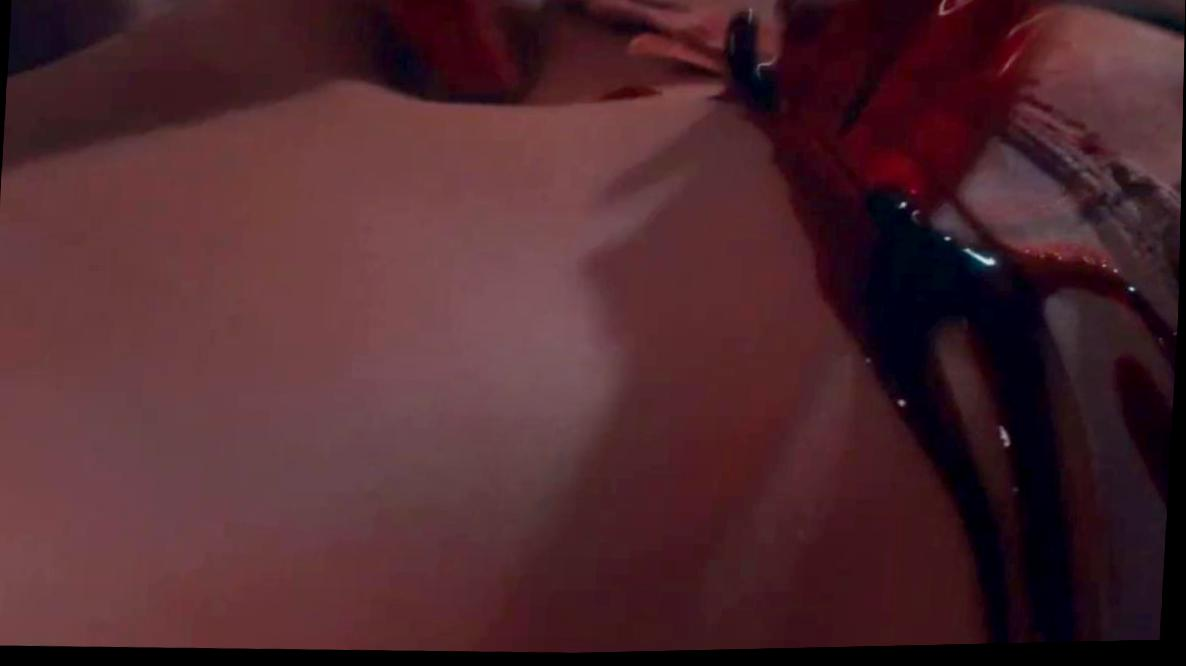Fire: (344, 0, 1180, 649)
